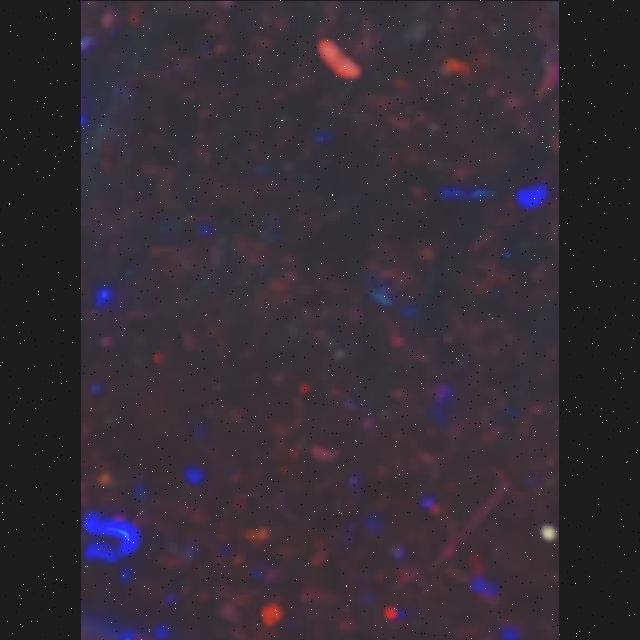microbeads: (540, 525, 558, 539)
